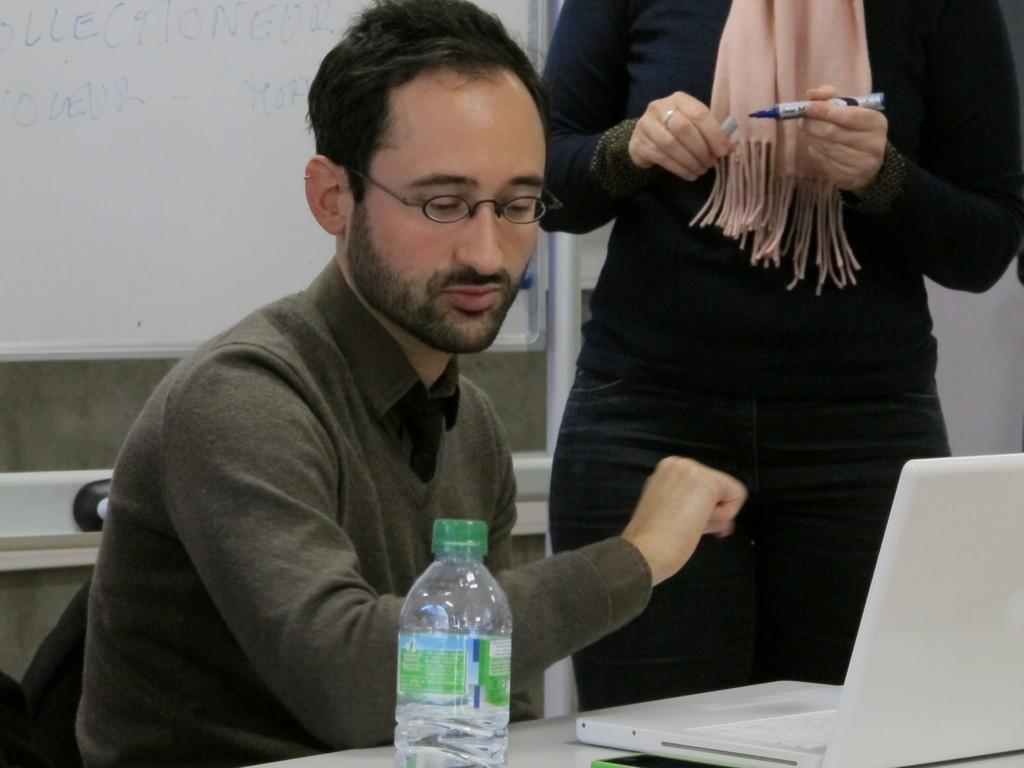Laptop: (573, 448, 1018, 767)
